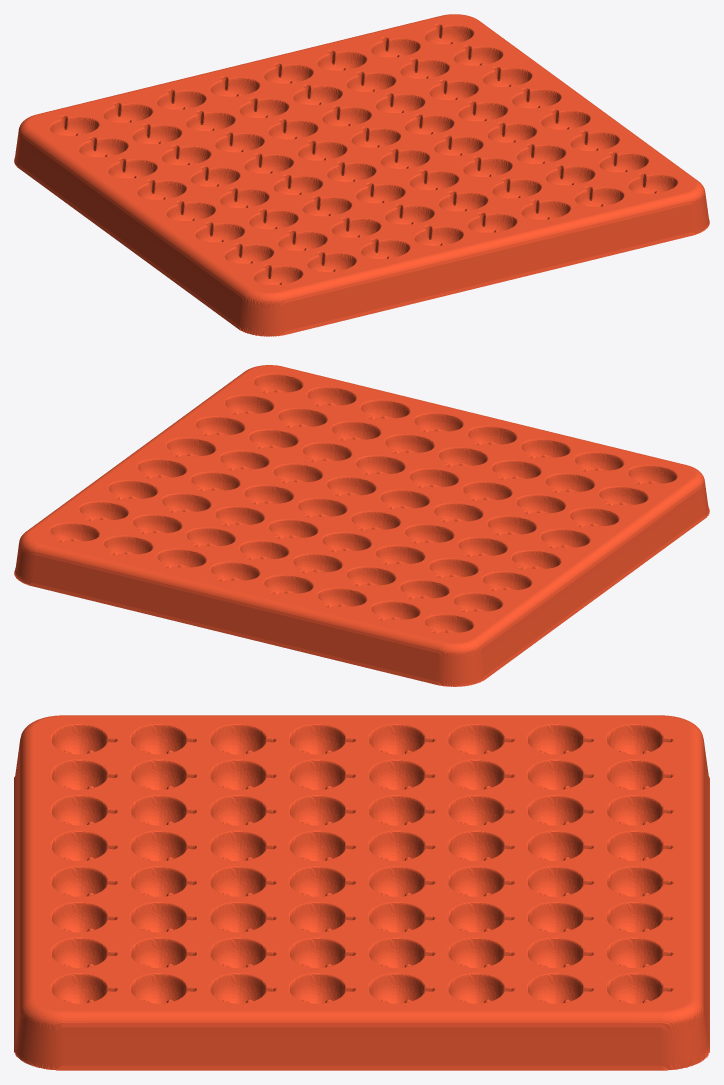
Rendered from mold.glb.
3 views of the same model, one above another, from view 1: azimuth 30°, elevation 25°; view 2: azimuth 150°, elevation 25°; view 3: azimuth 270°, elevation 25° (orthographic). The views are drawn at different scales.
Parts seen in each view (by area): view 1: geometry_0; view 2: geometry_0; view 3: geometry_0.
Part boxes in pixels (box(x1,y1,x2,y2)): geometry_0: box(14, 14, 709, 336); geometry_0: box(14, 365, 709, 686); geometry_0: box(14, 715, 709, 1070).
Bounding box in the file's own units: 0.1355 × 0.0105 × 0.1283.
